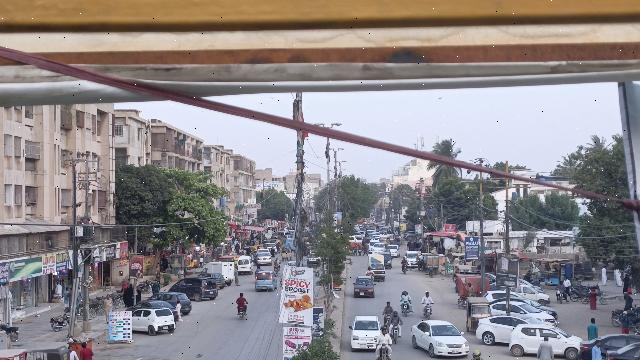Bike: (377, 342, 391, 360), (390, 322, 400, 345), (423, 300, 433, 320), (237, 305, 247, 323), (400, 300, 410, 317), (384, 311, 391, 326)
Car: (509, 321, 579, 360), (409, 319, 470, 358), (476, 314, 540, 347), (578, 333, 636, 360), (132, 307, 177, 336), (169, 276, 219, 300), (349, 315, 381, 351), (352, 275, 376, 299)
Person: (536, 333, 552, 360), (584, 315, 600, 338), (101, 293, 114, 321), (77, 341, 93, 360), (589, 339, 601, 360), (377, 328, 392, 344), (234, 291, 249, 306), (420, 290, 434, 305), (174, 299, 183, 322), (389, 309, 402, 324), (121, 281, 129, 304), (381, 300, 394, 314), (150, 278, 161, 294), (66, 345, 77, 360), (399, 290, 412, 302), (128, 283, 134, 305), (136, 284, 142, 303)
Rickshaw: (463, 295, 490, 332)
Truck: (203, 261, 234, 283), (366, 253, 387, 281)
